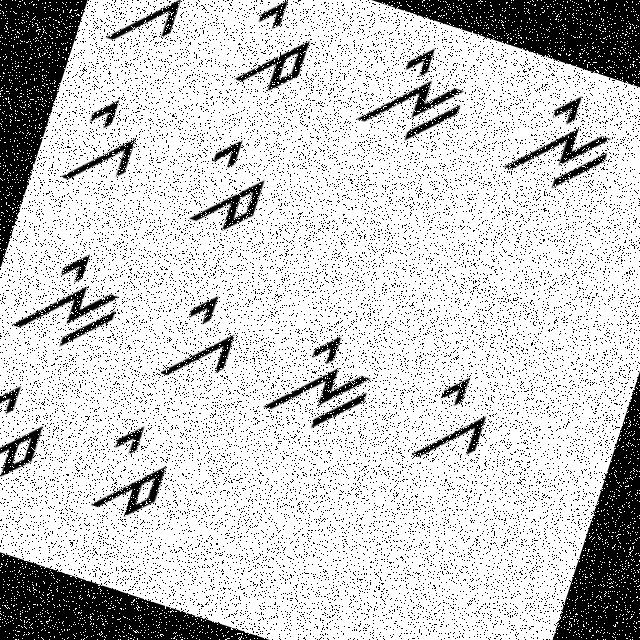gi: (132, 278, 254, 406), (398, 362, 507, 488), (53, 78, 159, 207), (102, 0, 202, 67)
ngi: (493, 65, 639, 212), (0, 224, 146, 369), (341, 18, 486, 164), (254, 310, 394, 452)
ti: (168, 121, 286, 252), (72, 412, 186, 538), (219, 0, 328, 106), (0, 372, 67, 494)
